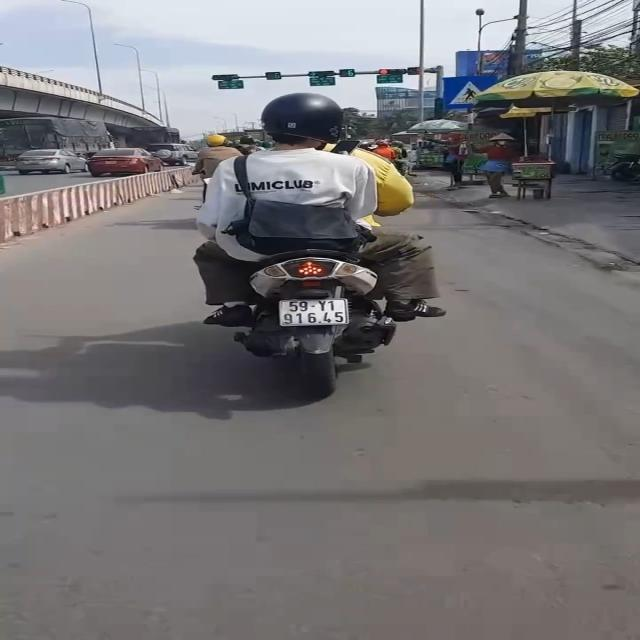224-duong-nguoi-di-bo-cat-ngang: (442, 72, 520, 112)
